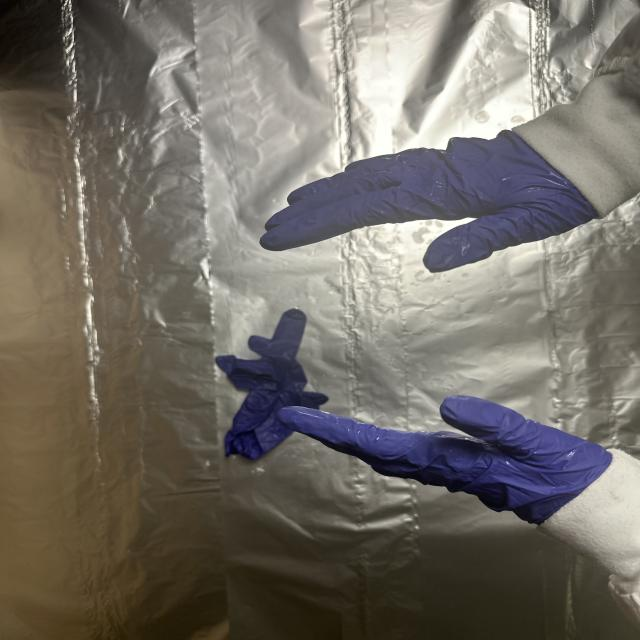gloves_contaminated: (261, 131, 596, 273), (279, 396, 612, 524)
